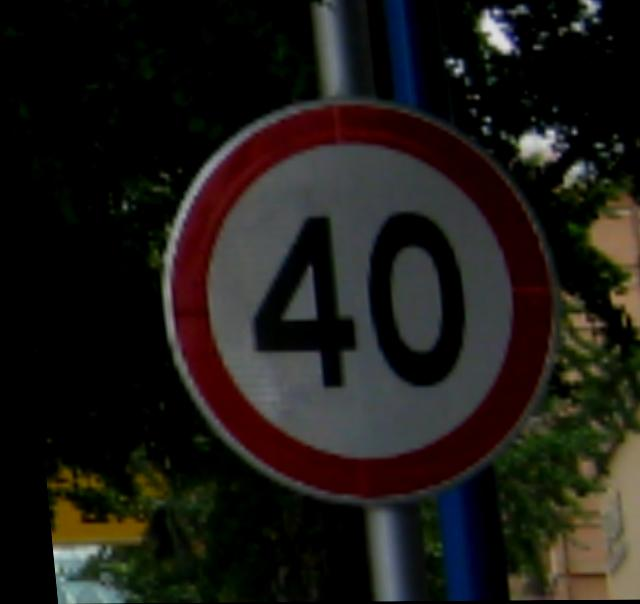limit40: (127, 83, 579, 519)
